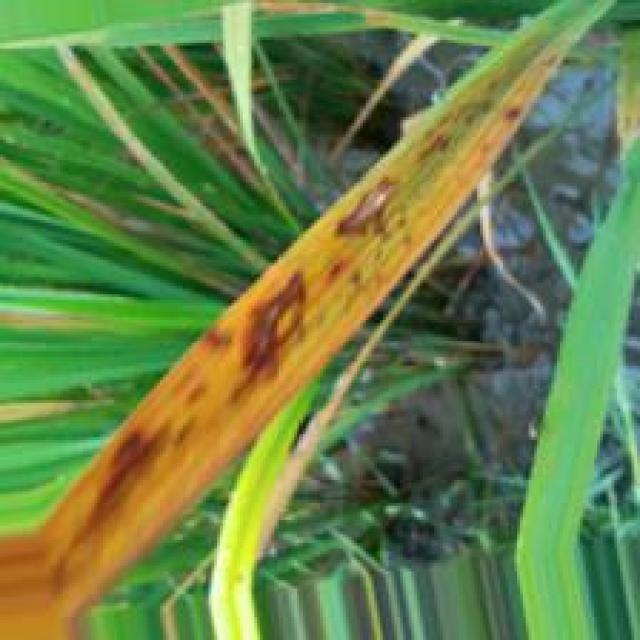Narrow_Brown_Leaf_Spot: (0, 46, 575, 640)
